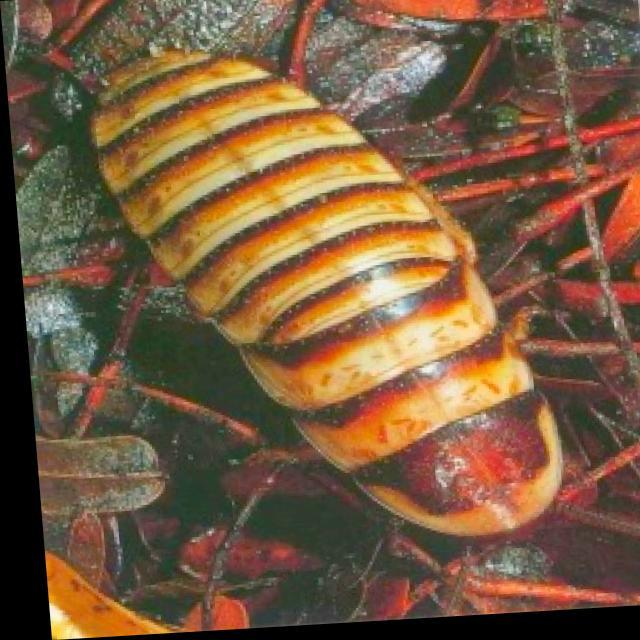cockroach: (84, 42, 569, 540)
